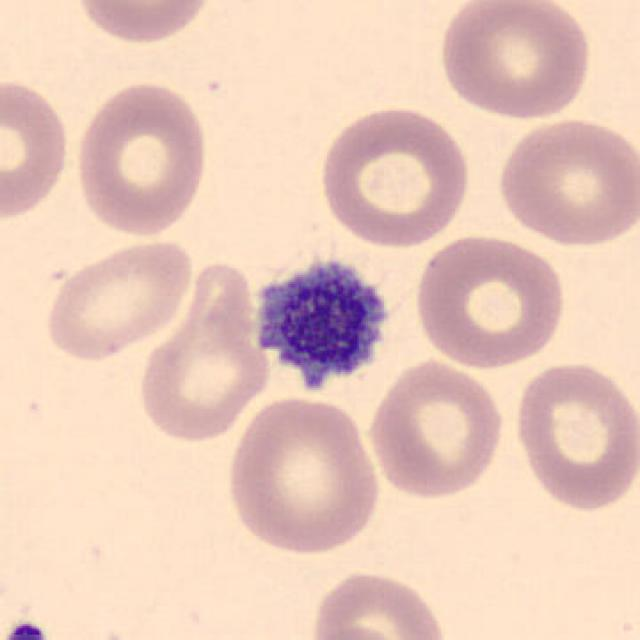Platelets: (242, 247, 404, 400), (1, 619, 52, 640)
RBC: (220, 391, 384, 559), (134, 259, 276, 448), (314, 100, 474, 248), (71, 76, 212, 240), (410, 229, 570, 372), (364, 354, 508, 501), (508, 358, 638, 515), (39, 235, 196, 363), (492, 113, 638, 250), (434, 0, 596, 122), (0, 74, 75, 224), (306, 566, 453, 640), (69, 0, 217, 48), (306, 622, 416, 640)
